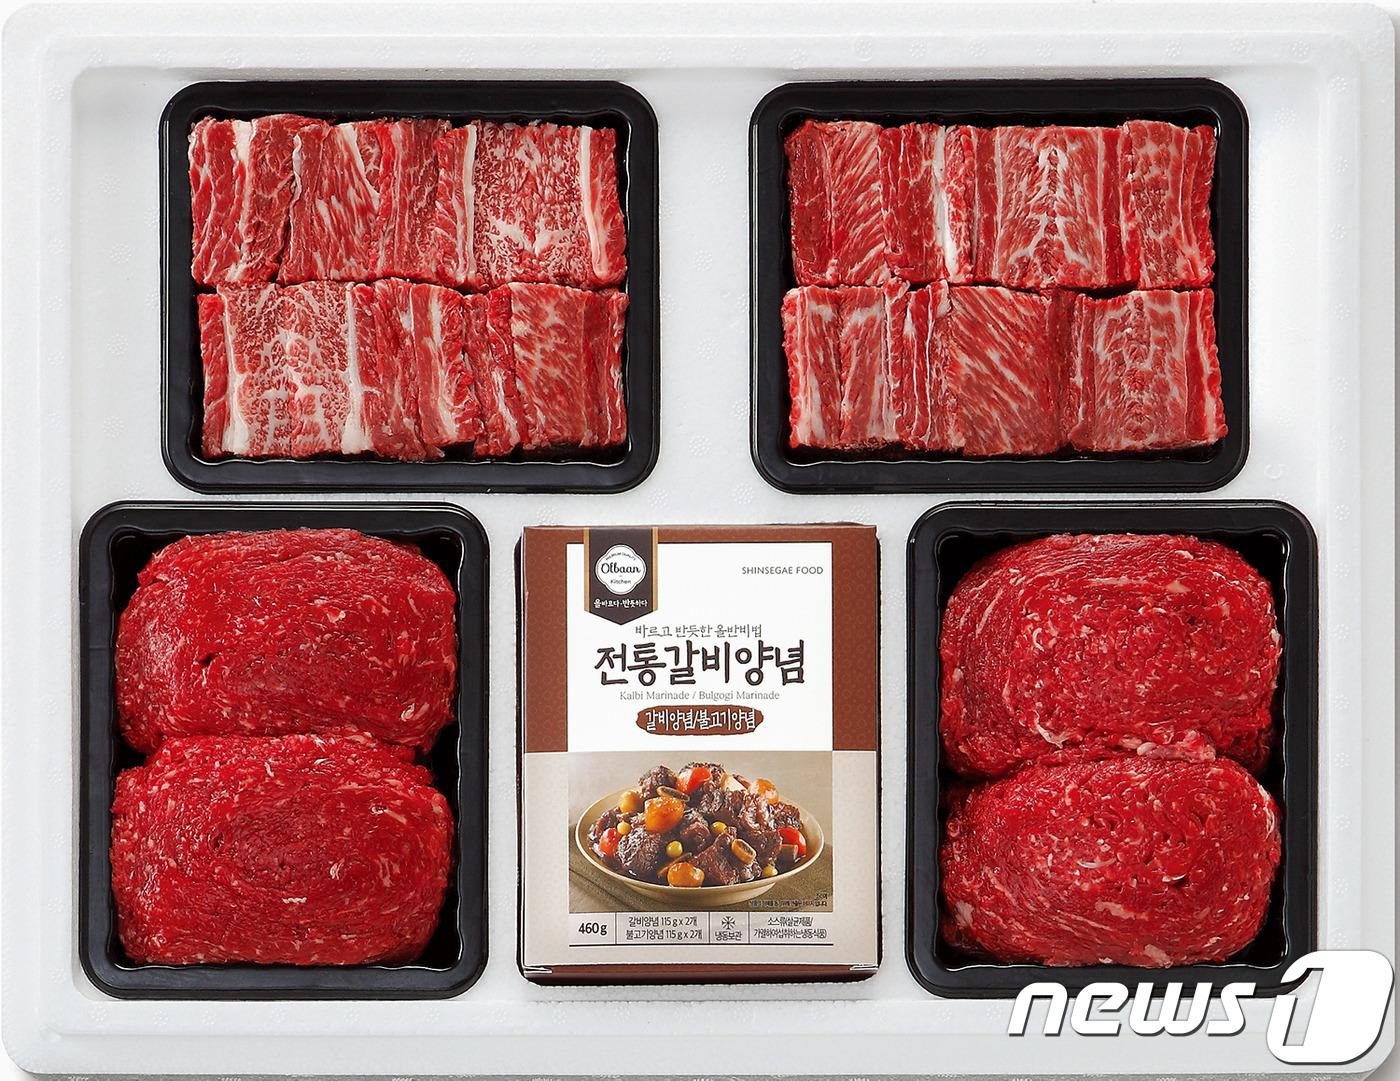beef: (418, 201, 1369, 766), (252, 717, 989, 1081), (922, 216, 1400, 772), (1039, 723, 1400, 1081)
